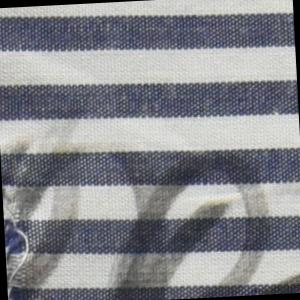Damage: (2, 176, 35, 300)
Stain: (1, 118, 300, 300)
